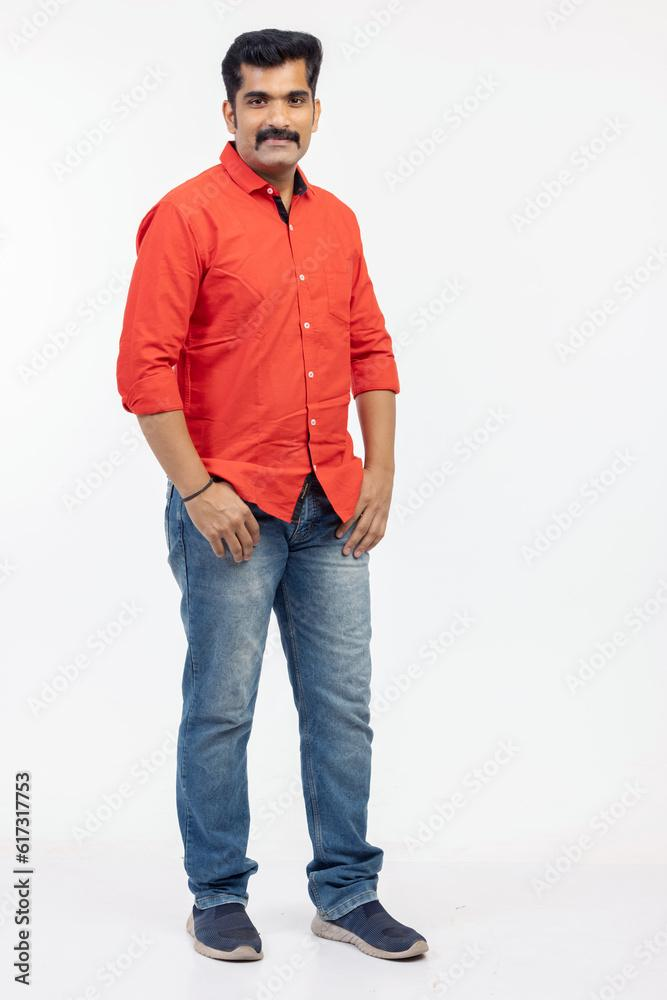Human: (84, 44, 471, 954)
